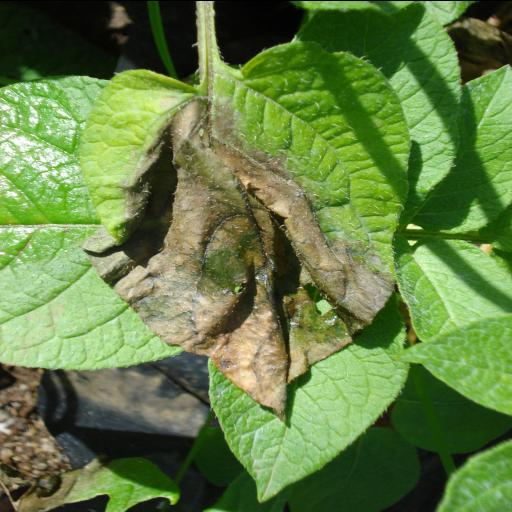Late Blight: (78, 36, 410, 426)
